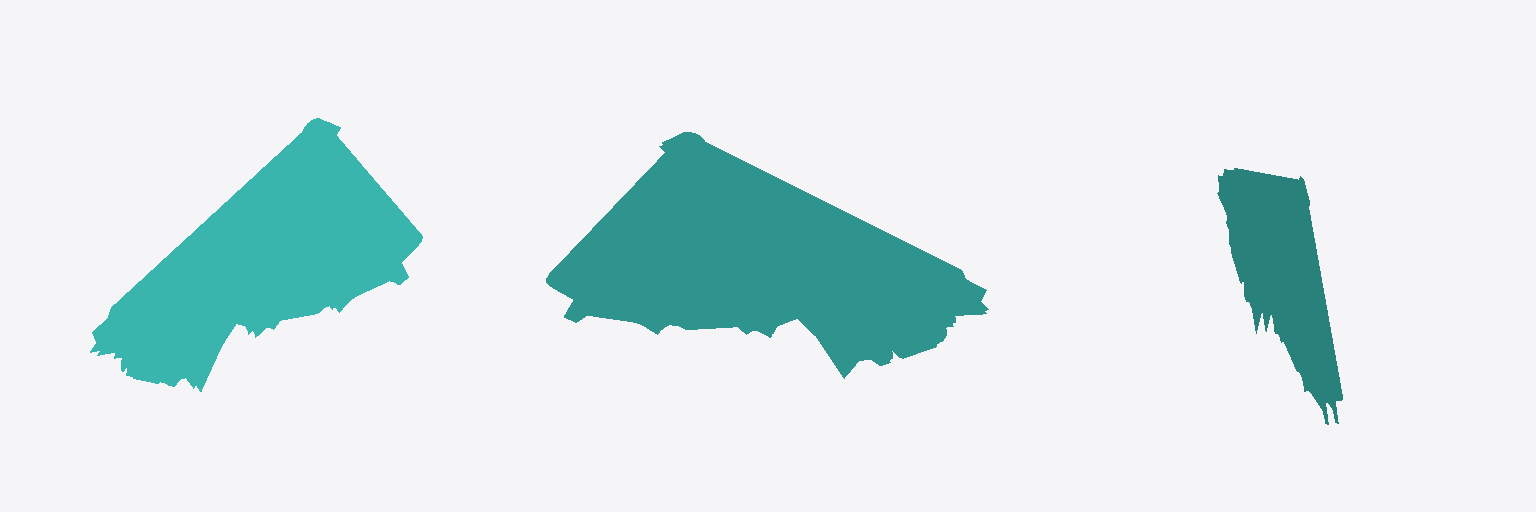
The model's file is ditu-上.obj.
3 renders of one model, left to right at view 1: azimuth 30°, elevation 25°; view 2: azimuth 150°, elevation 25°; view 3: azimuth 270°, elevation 25°, orthographic.
Parts seen in each view (by area): view 1: 挤压, 挤压_1; view 2: 挤压_1, 挤压; view 3: 挤压, 挤压_1.
Boxes of the visible parts, x1,y1,x2,y2 form: 挤压: [97, 121, 422, 391]; 挤压_1: [90, 118, 392, 388]; 挤压_1: [546, 136, 986, 378]; 挤压: [548, 132, 988, 359]; 挤压: [1217, 169, 1332, 424]; 挤压_1: [1233, 168, 1342, 423].
Size of the model in its own units: 883 by 487 by 248.